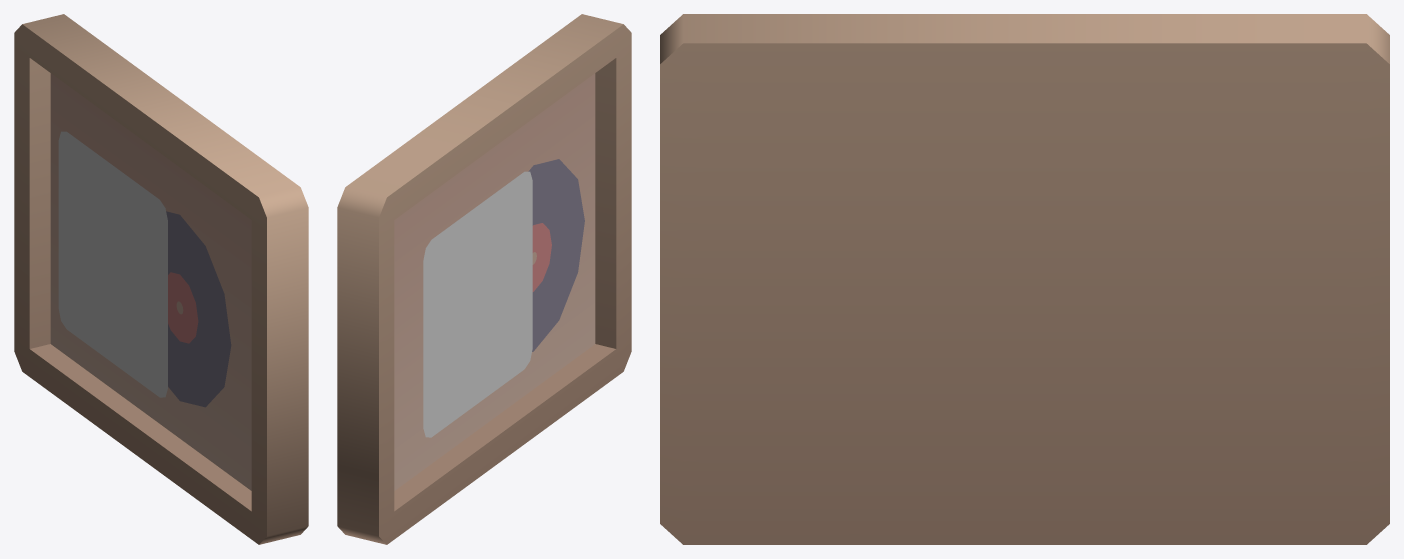
The model's file is art-frame-record (%wall).glb.
3 renders of one model, left to right at view 1: azimuth 30°, elevation 25°; view 2: azimuth 150°, elevation 25°; view 3: azimuth 270°, elevation 25°, orthographic. The views are drawn at different scales.
Parts seen in each view (by area): view 1: art-frame-record (%wall); view 2: art-frame-record (%wall); view 3: art-frame-record (%wall).
Part boxes in pixels (x1=…): art-frame-record (%wall): x1=14, y1=14, x2=308, y2=544; art-frame-record (%wall): x1=337, y1=14, x2=631, y2=544; art-frame-record (%wall): x1=660, y1=14, x2=1389, y2=544.
Size of the model in its own units: 0.075 by 0.5965 by 0.7865.
